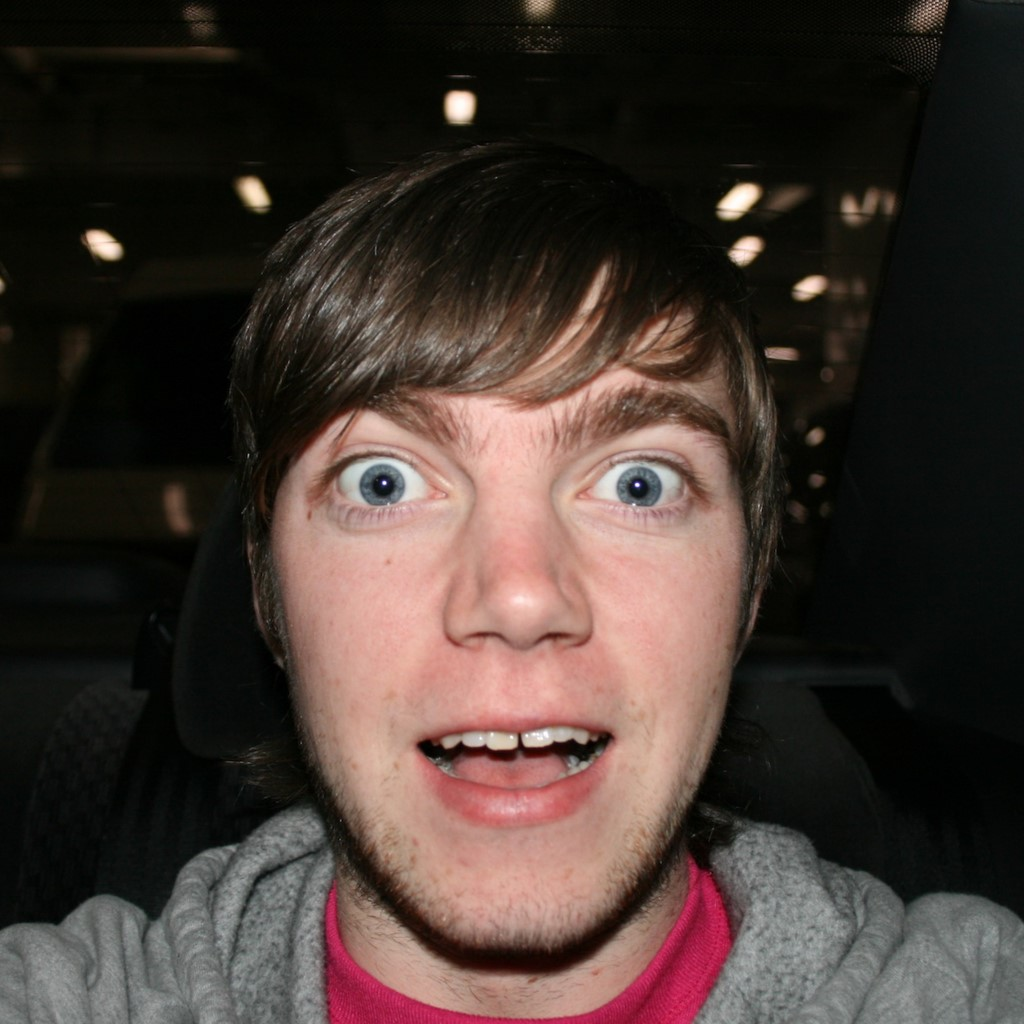sin_mascara: (259, 252, 771, 969)
